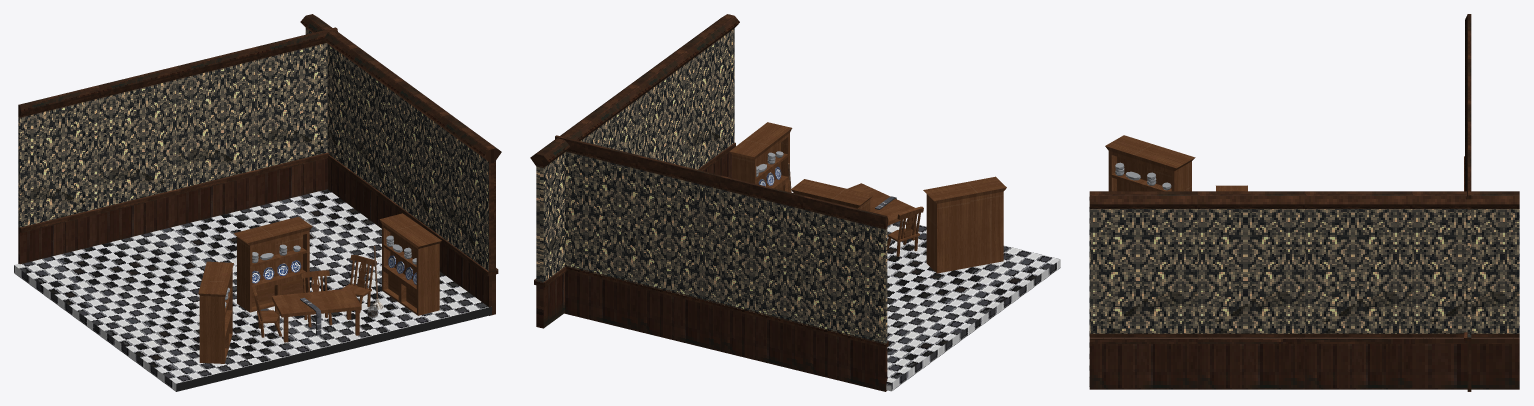
File: SM_Kitchen_Room.glb
3 views of the same model, side by side, from view 1: azimuth 30°, elevation 25°; view 2: azimuth 150°, elevation 25°; view 3: azimuth 270°, elevation 25° (orthographic). The views are drawn at different scales.
Parts seen in each view (by area): view 1: SM_House_Blockout.003, SM_Kitchen_Floor, SM_House_Blockout.004, SM_House_Blockout.001, SM_House_Blockout.014, SM_House_Blockout.005, SM_House_Blockout.058, SM_House_Blockout.002, SM_House_Blockout.006, SM_House_Blockout.007, SM_House_Blockout.009; view 2: SM_House_Blockout.003, SM_House_Blockout.004, SM_Kitchen_Floor, SM_House_Blockout.005, SM_House_Blockout.014, SM_House_Blockout.001, SM_House_Blockout.058, SM_House_Blockout.007; view 3: SM_House_Blockout.004, SM_House_Blockout.005, SM_House_Blockout.003, SM_House_Blockout.013.
Part boxes in pixels (bbox=[...]): SM_House_Blockout.003: bbox=[18, 27, 337, 264]; SM_Kitchen_Floor: bbox=[14, 189, 491, 391]; SM_House_Blockout.004: bbox=[300, 14, 501, 315]; SM_House_Blockout.001: bbox=[234, 216, 312, 312]; SM_House_Blockout.014: bbox=[379, 213, 441, 315]; SM_House_Blockout.005: bbox=[198, 261, 233, 363]; SM_House_Blockout.058: bbox=[272, 288, 361, 342]; SM_House_Blockout.002: bbox=[341, 255, 376, 312]; SM_House_Blockout.006: bbox=[300, 270, 332, 327]; SM_House_Blockout.007: bbox=[251, 283, 282, 337]; SM_House_Blockout.009: bbox=[252, 260, 301, 283]; SM_House_Blockout.003: bbox=[555, 135, 888, 391]; SM_House_Blockout.004: bbox=[530, 14, 739, 328]; SM_Kitchen_Floor: bbox=[886, 221, 1060, 391]; SM_House_Blockout.005: bbox=[923, 176, 1006, 273]; SM_House_Blockout.014: bbox=[729, 122, 792, 190]; SM_House_Blockout.001: bbox=[791, 179, 873, 211]; SM_House_Blockout.058: bbox=[847, 183, 918, 240]; SM_House_Blockout.007: bbox=[887, 206, 923, 256]; SM_House_Blockout.004: bbox=[1089, 191, 1519, 389]; SM_House_Blockout.005: bbox=[1105, 135, 1195, 191]; SM_House_Blockout.003: bbox=[1464, 14, 1471, 391]; SM_House_Blockout.013: bbox=[1115, 162, 1171, 190].
Bounding box in the file's own units: 12.31 × 6.06 × 12.02.
Materials: 7 (6 with a texture image).
